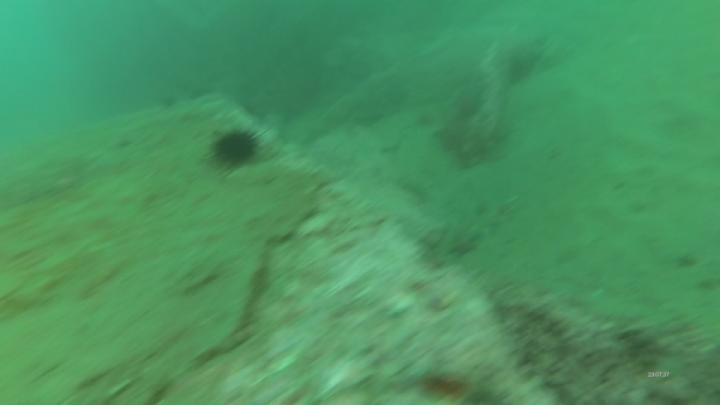echinus: (214, 130, 258, 170)
